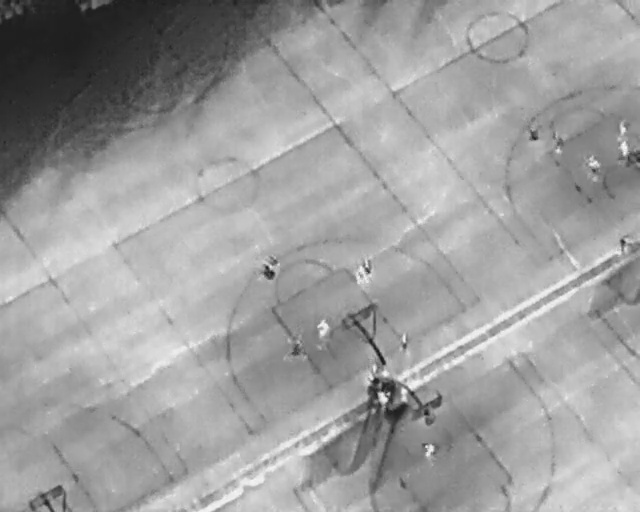Person: (582, 154, 605, 184), (258, 253, 280, 282), (286, 337, 310, 363), (616, 137, 633, 160), (359, 255, 375, 276), (315, 319, 330, 340), (366, 362, 381, 383), (551, 134, 566, 155), (421, 440, 436, 460), (355, 266, 367, 286), (617, 118, 630, 136), (528, 123, 539, 143), (400, 330, 409, 352)
